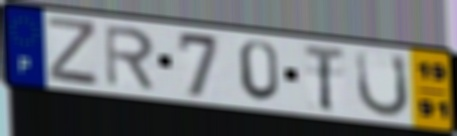0: (235, 39, 282, 104)
7: (175, 29, 223, 100)
R: (102, 23, 158, 92)
T: (301, 42, 347, 113)
U: (354, 48, 412, 119)
Z: (46, 15, 100, 90)
